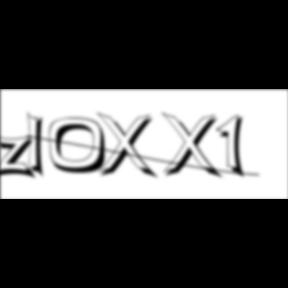1: (216, 114, 250, 182)
I: (27, 110, 51, 182)
O: (48, 117, 114, 176)
X: (96, 112, 160, 182), (161, 112, 225, 182)
z: (0, 134, 40, 182)
